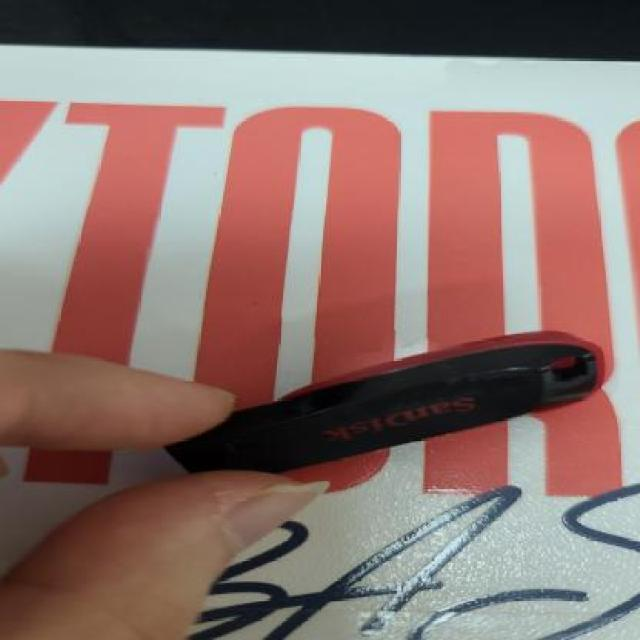Flashdisk: (166, 330, 608, 476)
